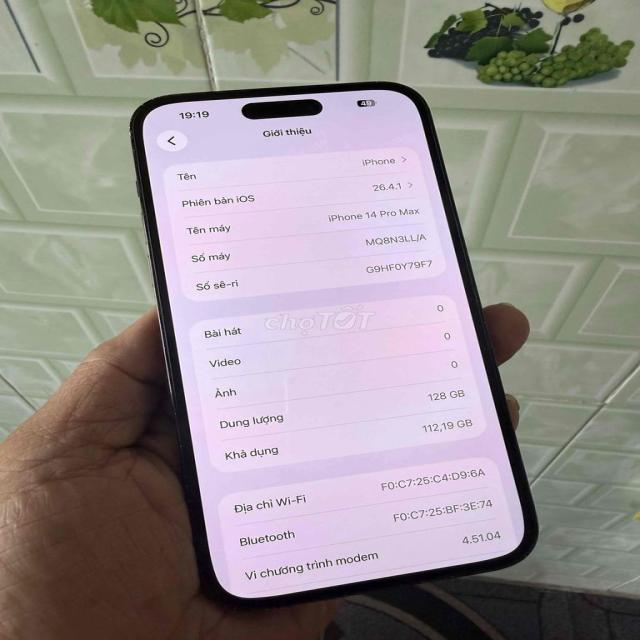gen_14: (122, 71, 546, 606)
